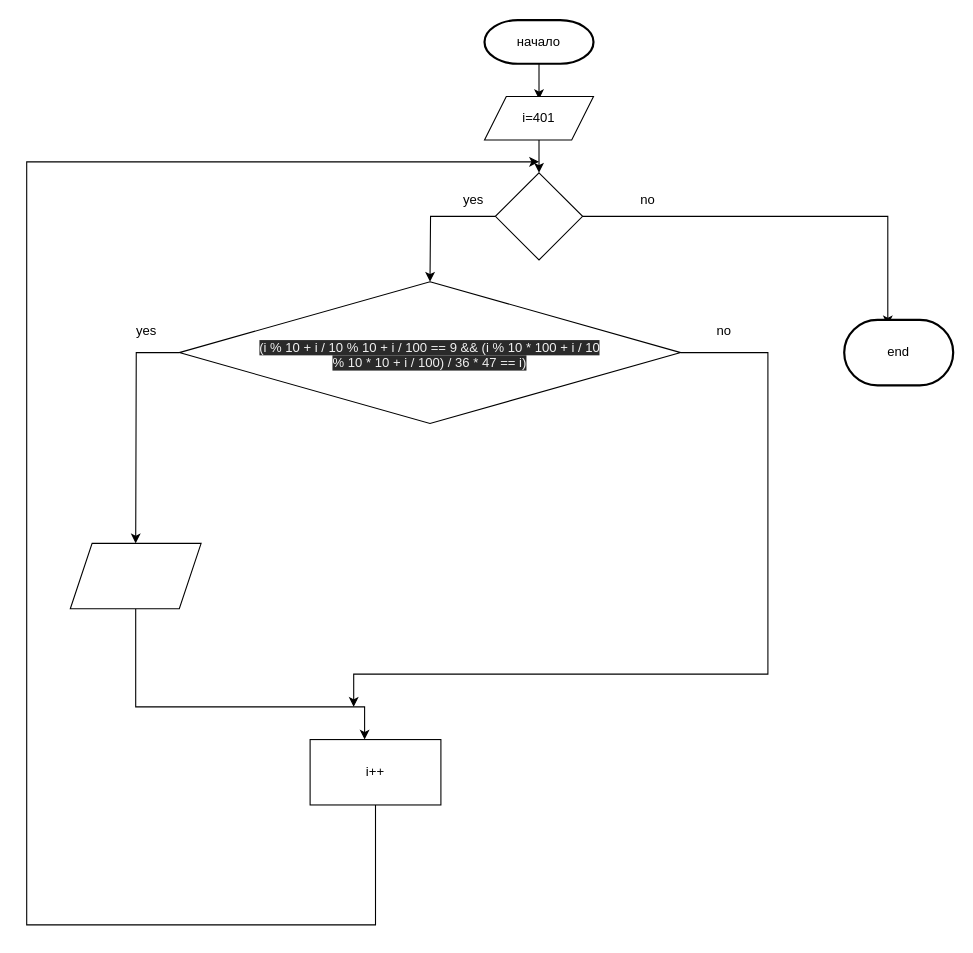
This 973x953 diagram has some shape labels left out. Each missing label, with the centre of its shape:
desired number: [135,575]
i<500: [538,216]
